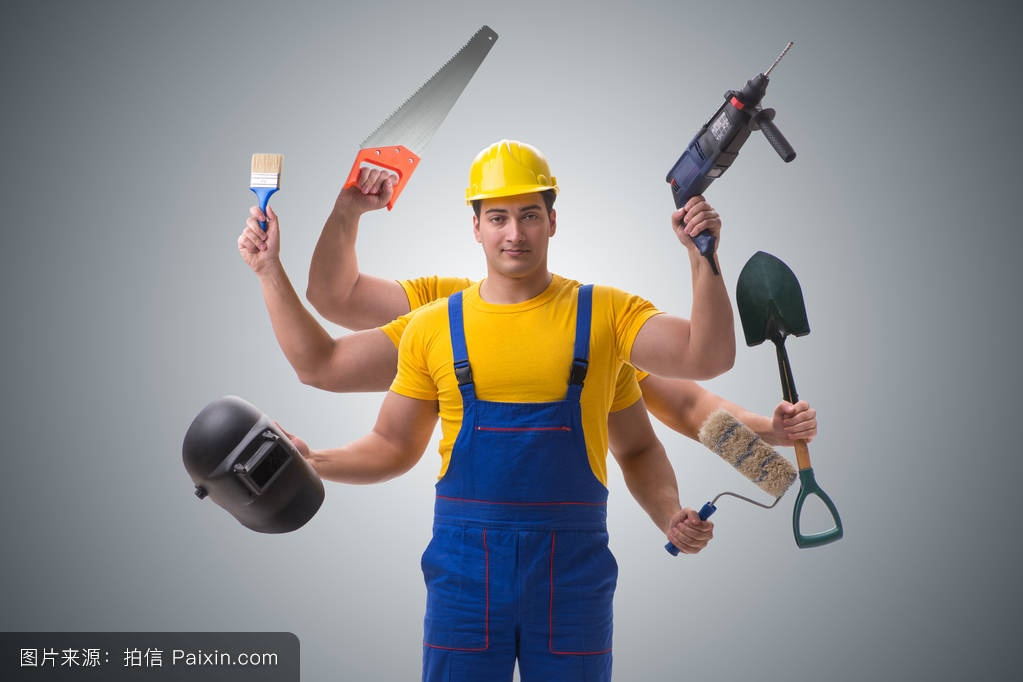yellow: (466, 139, 561, 278)
